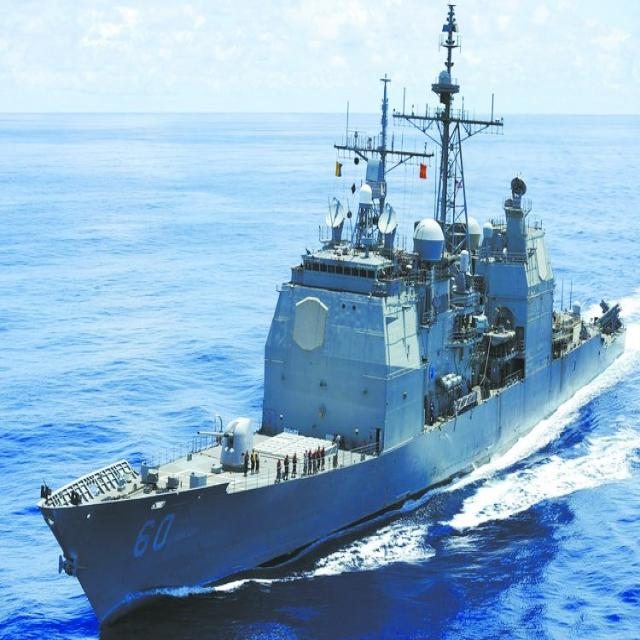navalvessels: (31, 33, 634, 634)
